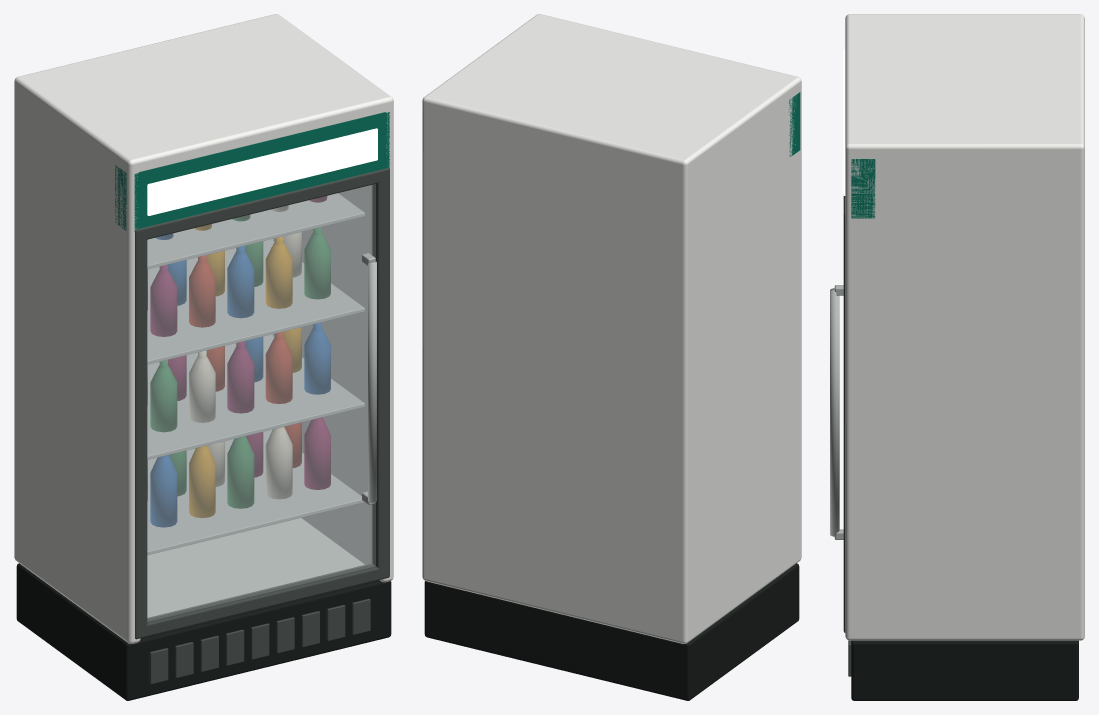
Rendered from nevera.glb.
3 views of the same model, side by side, from view 1: azimuth 30°, elevation 25°; view 2: azimuth 150°, elevation 25°; view 3: azimuth 270°, elevation 25° (orthographic). The views are drawn at different scales.
Visible parts, largest first — view 1: puerta_vidrio, lado_izq, techo, base, lado_der, piso_int, cabezote, repisa_2, repisa_1, cabezote_luz, repisa_0, repisa_3 (+30 smaller); view 2: fondo, lado_izq, techo, base, lado_der, cabezote; view 3: lado_der, techo, base, fondo, manija, cabezote, marco_3, lado_izq, cabezote_luz.
Boxes of the visible parts, x1=… form: puerta_vidrio: x1=147, y1=184, x2=375, y2=621; lado_izq: x1=15, y1=77, x2=140, y2=643; techo: x1=14, y1=15, x2=393, y2=172; base: x1=16, y1=563, x2=391, y2=700; lado_der: x1=272, y1=14, x2=393, y2=582; piso_int: x1=147, y1=518, x2=364, y2=617; cabezote: x1=115, y1=112, x2=389, y2=231; repisa_2: x1=147, y1=240, x2=364, y2=364; repisa_1: x1=147, y1=335, x2=364, y2=459; cabezote_luz: x1=147, y1=128, x2=377, y2=215; repisa_0: x1=147, y1=430, x2=364, y2=554; repisa_3: x1=147, y1=193, x2=364, y2=269; fondo: x1=422, y1=94, x2=691, y2=643; lado_izq: x1=677, y1=76, x2=801, y2=643; techo: x1=422, y1=14, x2=801, y2=172; base: x1=424, y1=563, x2=799, y2=700; lado_der: x1=424, y1=14, x2=544, y2=582; cabezote: x1=789, y1=92, x2=800, y2=156; lado_der: x1=845, y1=141, x2=1084, y2=640; techo: x1=845, y1=14, x2=1083, y2=157; base: x1=851, y1=640, x2=1078, y2=700; fondo: x1=1074, y1=14, x2=1084, y2=640; manija: x1=830, y1=288, x2=839, y2=536; cabezote: x1=851, y1=159, x2=875, y2=218; marco_3: x1=843, y1=213, x2=845, y2=632; lado_izq: x1=845, y1=14, x2=1084, y2=19; cabezote_luz: x1=843, y1=49, x2=845, y2=195.
Size of the model in its own units: 1.05 by 2.05 by 0.851.
